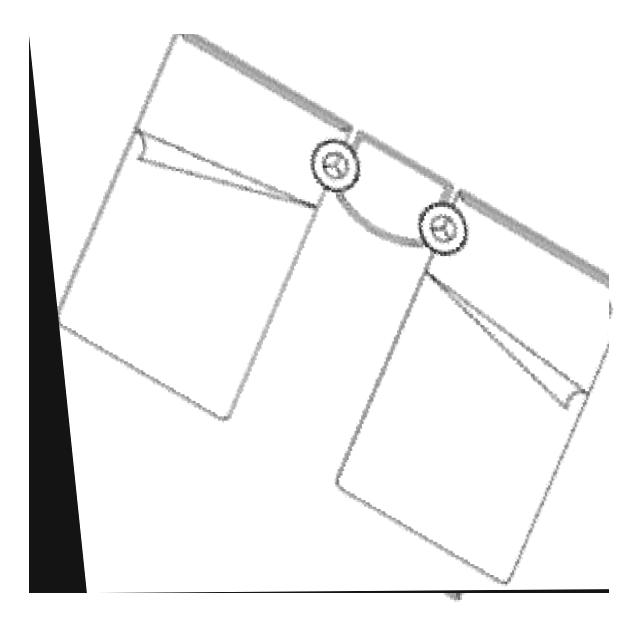bed: (29, 34, 609, 593)
